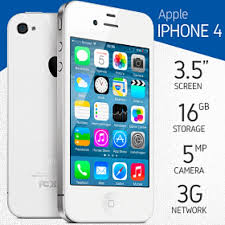iphone: (57, 1, 155, 225)
iphone4: (57, 1, 155, 225)
